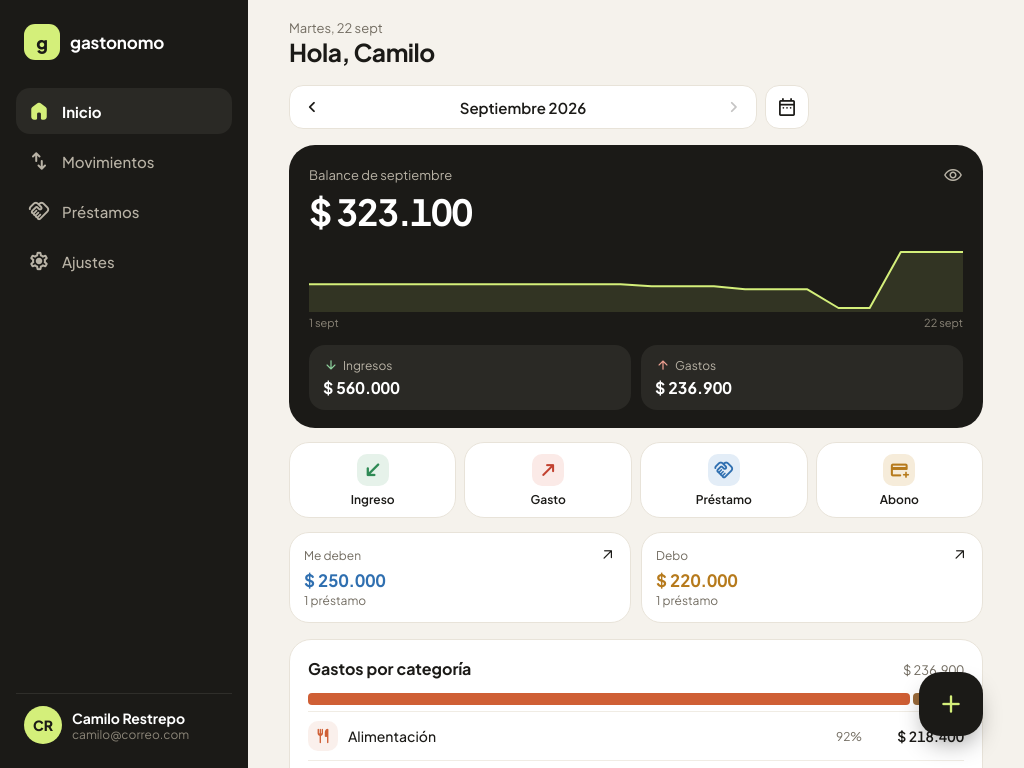
App › el boton flotante abre el dictado encima de la pantalla
The width and height of the screenshot is (1024, 768).
Click the button named "Nuevo registro": (951,704) [919,672,983,736]
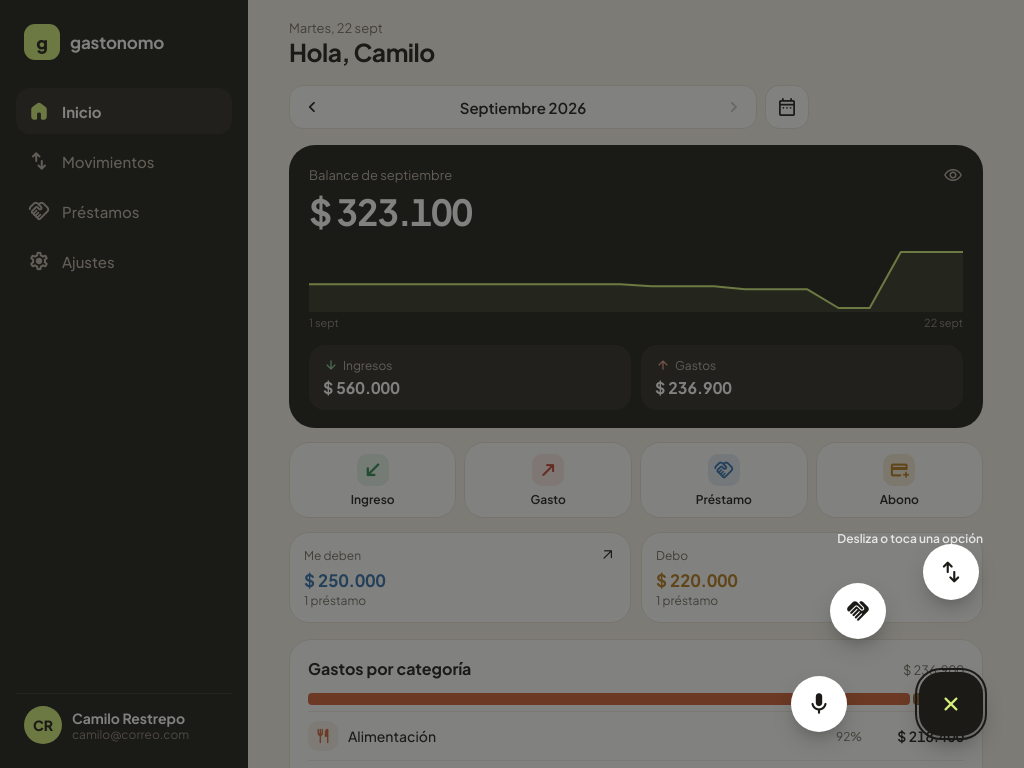
Click the button named "Dictar": (819,704) [791,676,847,732]
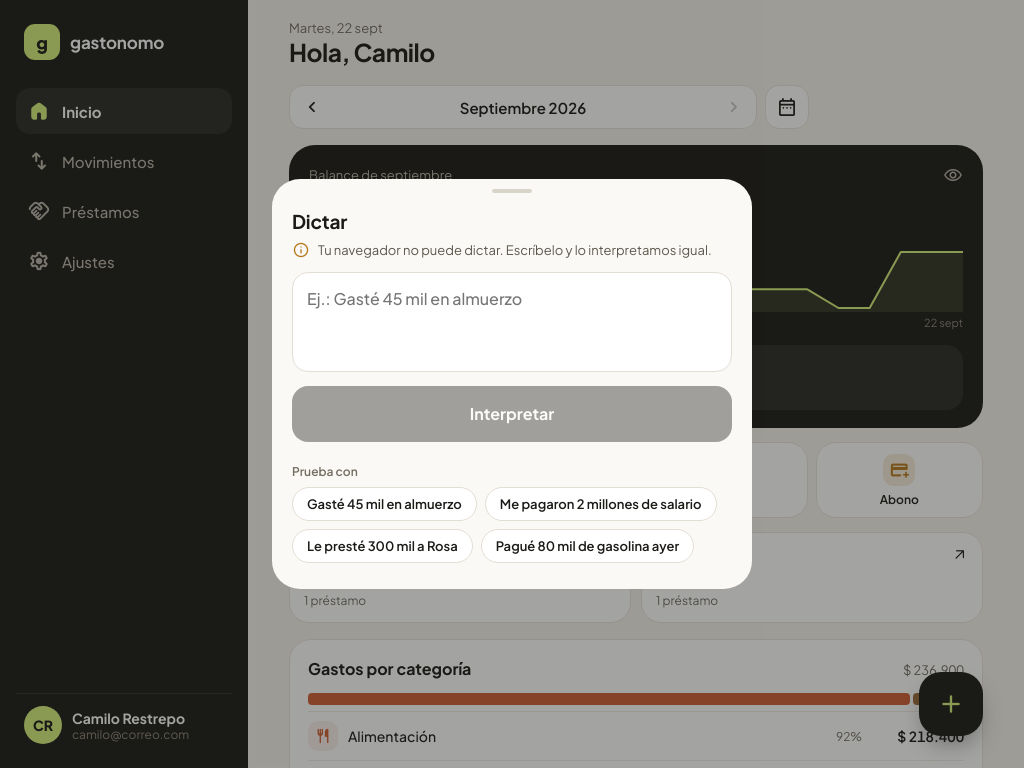
Expected: the text "Hola, Camilo" is shown, [289,36,435,67]
Now the dialog "Dictar" is shown, box [272,179,752,589]
